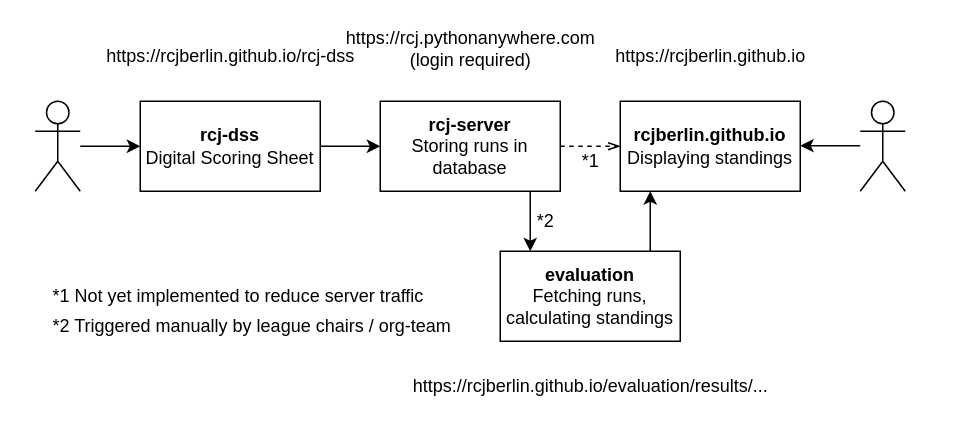
The diagram is 956 pixels wide and 426 high, and some of its shapes have lost their labels. The box of each missing label's shape, as (x1, y1, x2, y2) in pixels:
Participants: (859, 100, 905, 191)
Referee: (34, 100, 80, 191)
